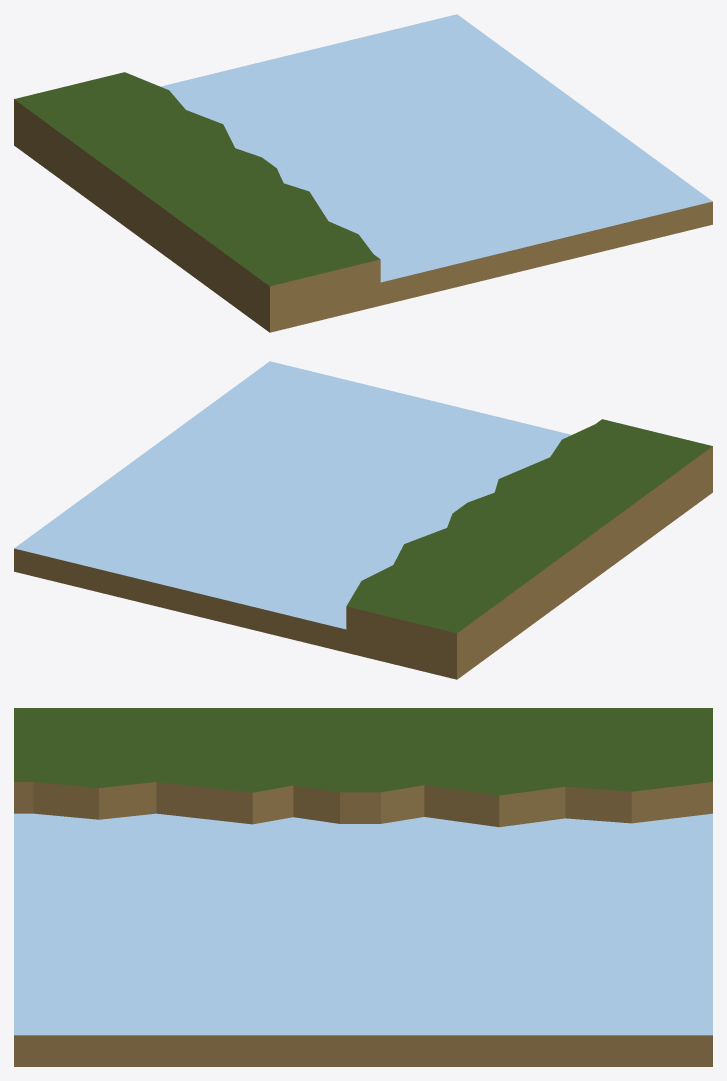
The model's file is Terrain_Modular_Tiles_Grass_Dirt_Water_Edge_Straight_03.fbx.
3 views of the same model, one above another, from view 1: azimuth 30°, elevation 25°; view 2: azimuth 150°, elevation 25°; view 3: azimuth 270°, elevation 25° (orthographic). The views are drawn at different scales.
Visible parts, largest first — view 1: Terrain_Modular_Tiles_Grass_Dirt_Water_Edge_Straight_03; view 2: Terrain_Modular_Tiles_Grass_Dirt_Water_Edge_Straight_03; view 3: Terrain_Modular_Tiles_Grass_Dirt_Water_Edge_Straight_03.
Part boxes in pixels (x1,y1,x2,y2): Terrain_Modular_Tiles_Grass_Dirt_Water_Edge_Straight_03: [14, 14, 712, 332]; Terrain_Modular_Tiles_Grass_Dirt_Water_Edge_Straight_03: [14, 361, 712, 679]; Terrain_Modular_Tiles_Grass_Dirt_Water_Edge_Straight_03: [14, 708, 712, 1066].
Size of the model in its own units: 3000 by 300 by 3000.
